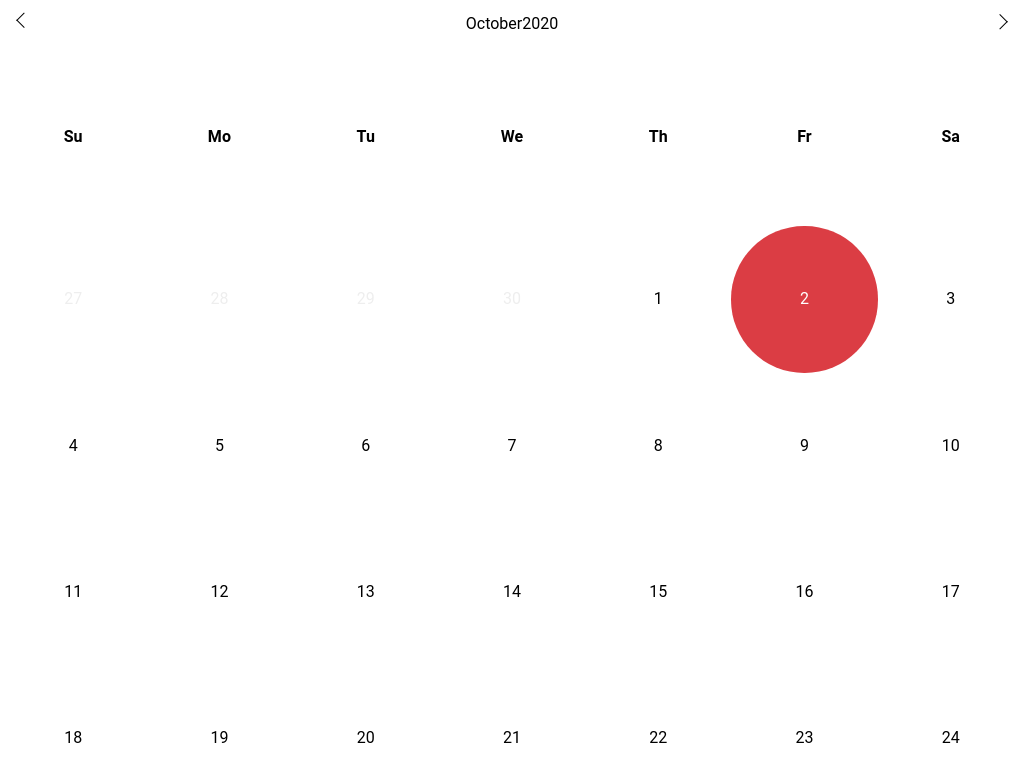
Test: Datepicker Component › switches back to month / day mode when year / month selected
Click the element showing "October2020": (512, 24) [458,16,566,32]
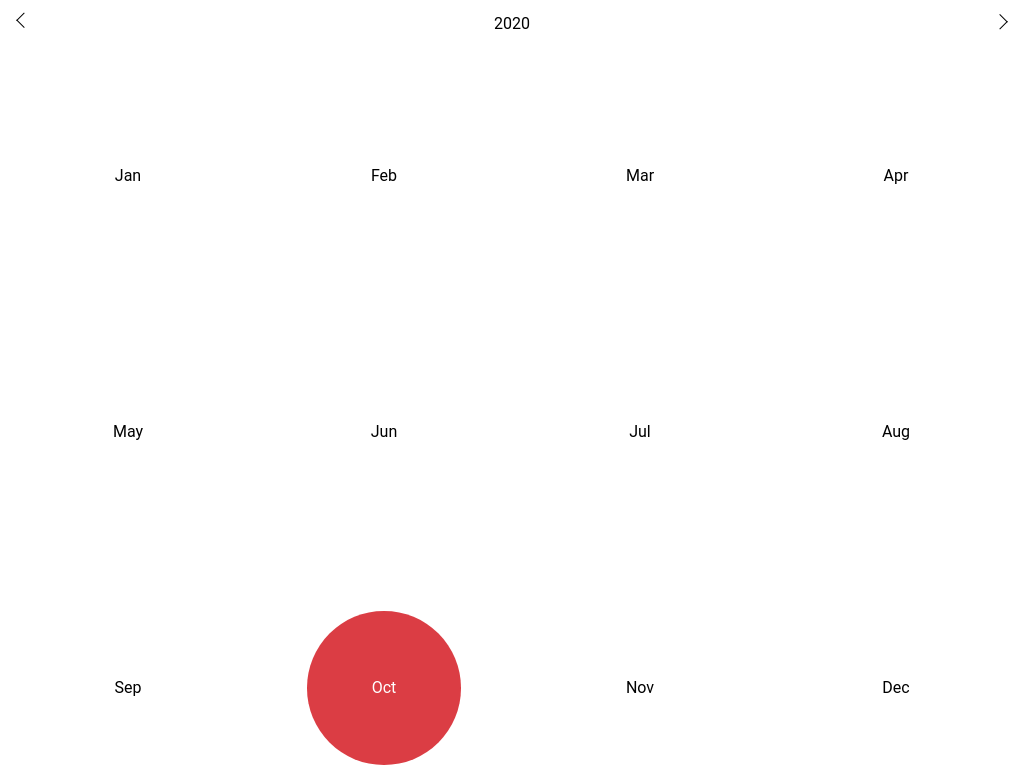
Click the element showing "2020": (512, 24) [494,14,530,33]
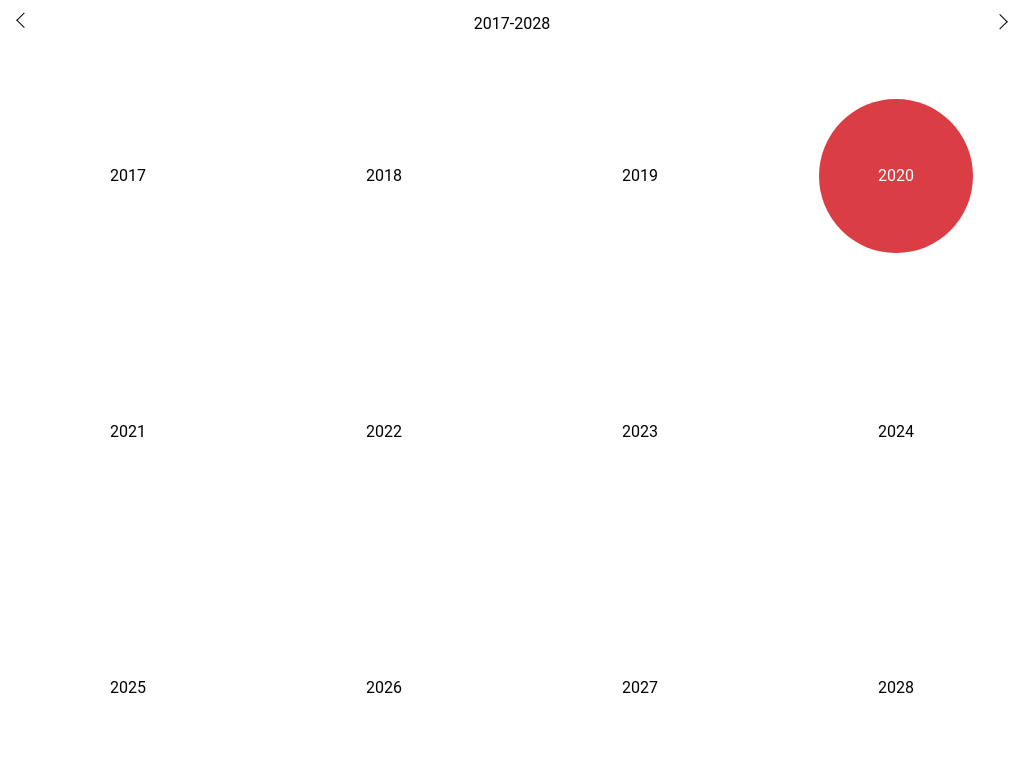
Click the element with class "year-grid" showing "2017": (128, 176) [110,166,146,185]
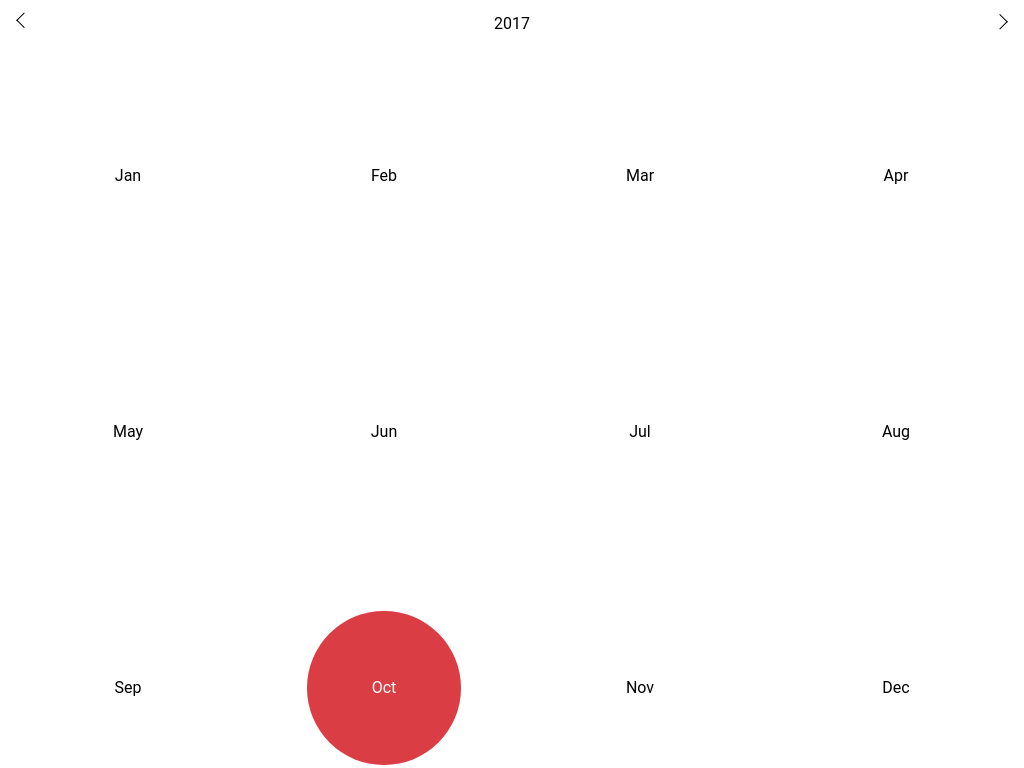
Now the element with class "month-grid" showing "Jan" is shown
Now the element with class "year-grid" is gone
Click the element with class "month-grid" showing "Jan": (128, 176) [115,166,141,185]
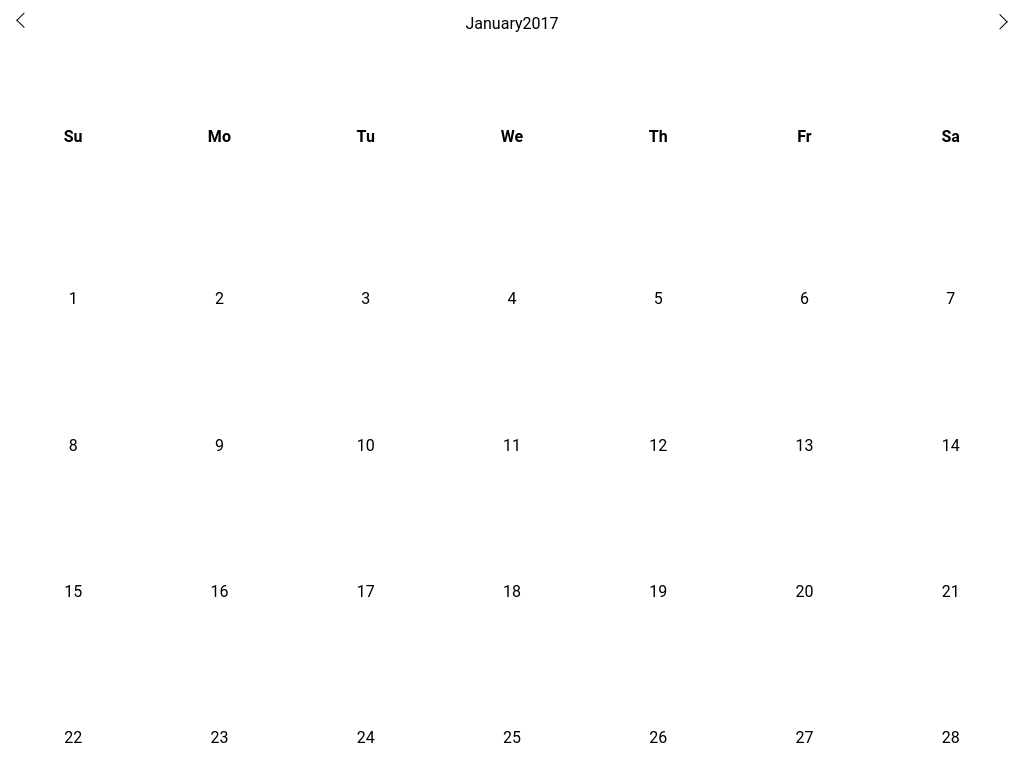
Now the element with class "month-grid" is gone
Now the text "1" is shown, box [69,289,78,308]
